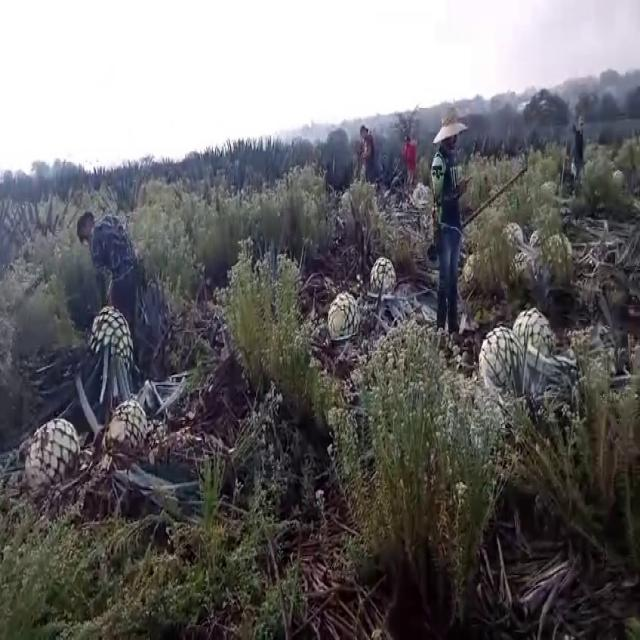agave: (22, 413, 84, 493), (89, 299, 135, 390), (102, 394, 155, 464), (475, 325, 524, 395), (513, 305, 558, 363), (325, 290, 359, 342), (368, 254, 394, 292)
